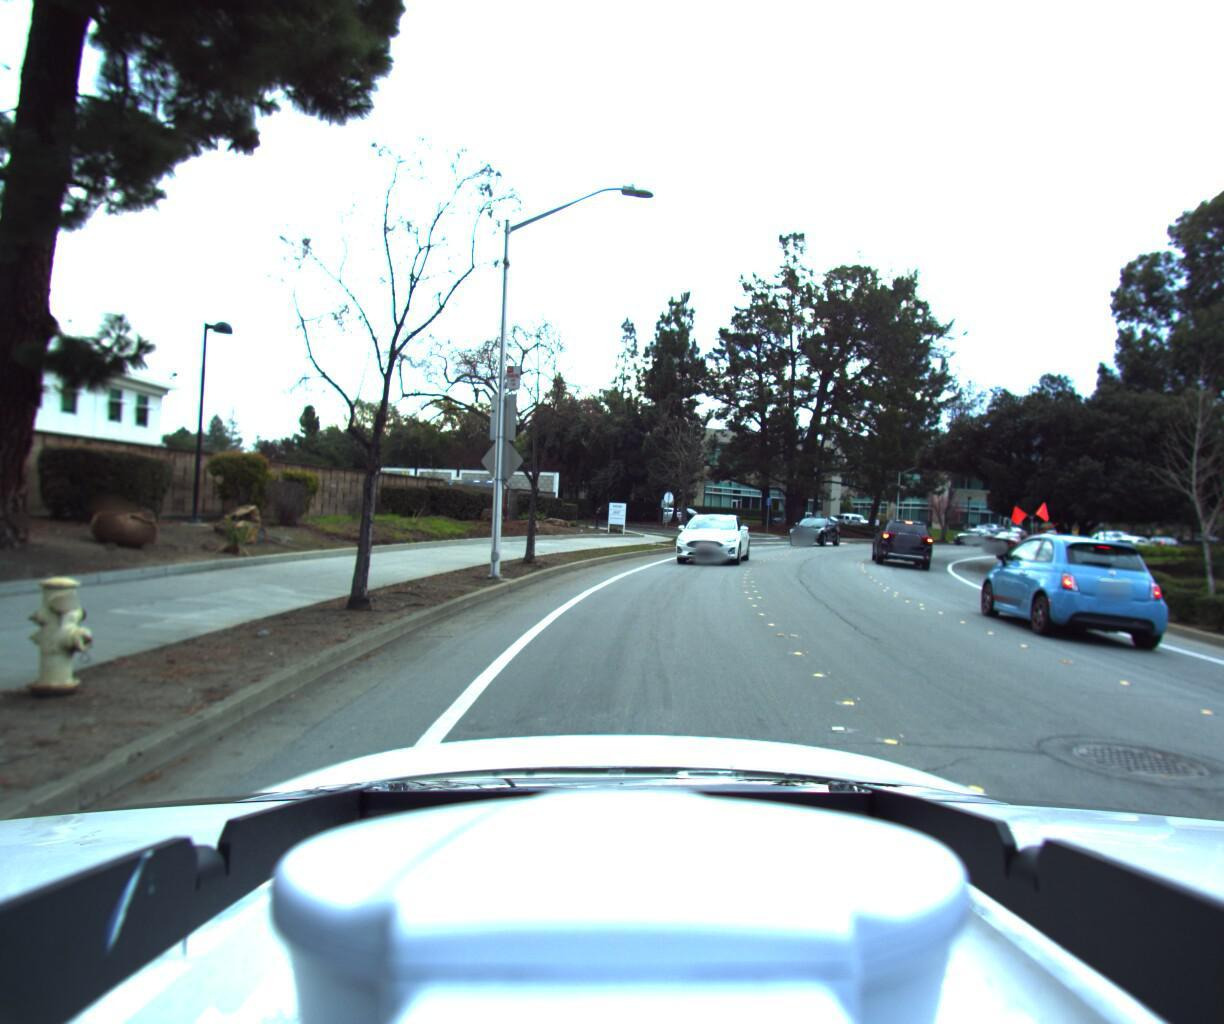car: (955, 525, 1165, 645), (668, 509, 748, 570), (877, 513, 936, 567), (775, 511, 839, 544), (942, 516, 993, 541), (1077, 521, 1128, 544), (1113, 530, 1159, 550)
